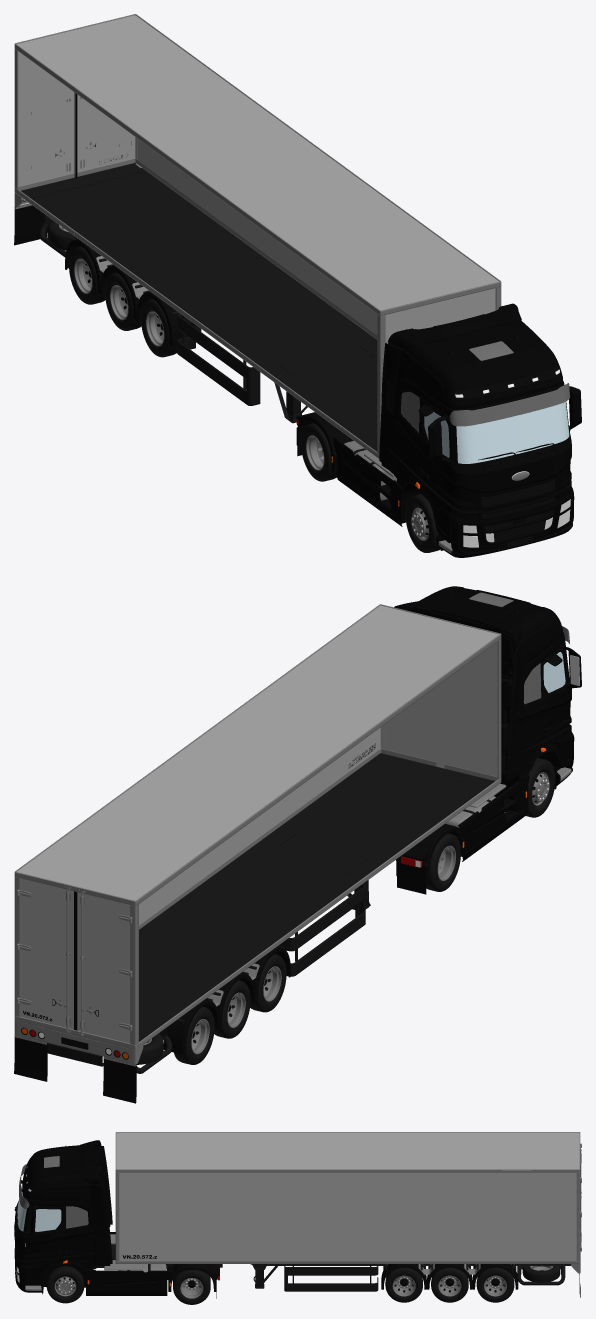
Rendered from 5. uploads_files_2545043_TR2x_28.FBX.
3 renders of one model, top to bottom at view 1: azimuth 30°, elevation 25°; view 2: azimuth 150°, elevation 25°; view 3: azimuth 270°, elevation 25°, orthographic. The views are drawn at different scales.
Parts seen in each view (by area): view 1: uploads_files_2545043_TR2x_28; view 2: uploads_files_2545043_TR2x_28; view 3: uploads_files_2545043_TR2x_28.
Part boxes in pixels (bbox=[...]): uploads_files_2545043_TR2x_28: bbox=[14, 14, 581, 557]; uploads_files_2545043_TR2x_28: bbox=[14, 586, 581, 1103]; uploads_files_2545043_TR2x_28: bbox=[14, 1132, 581, 1304].
Bounding box in the file's own units: 297 × 1514 × 395.
